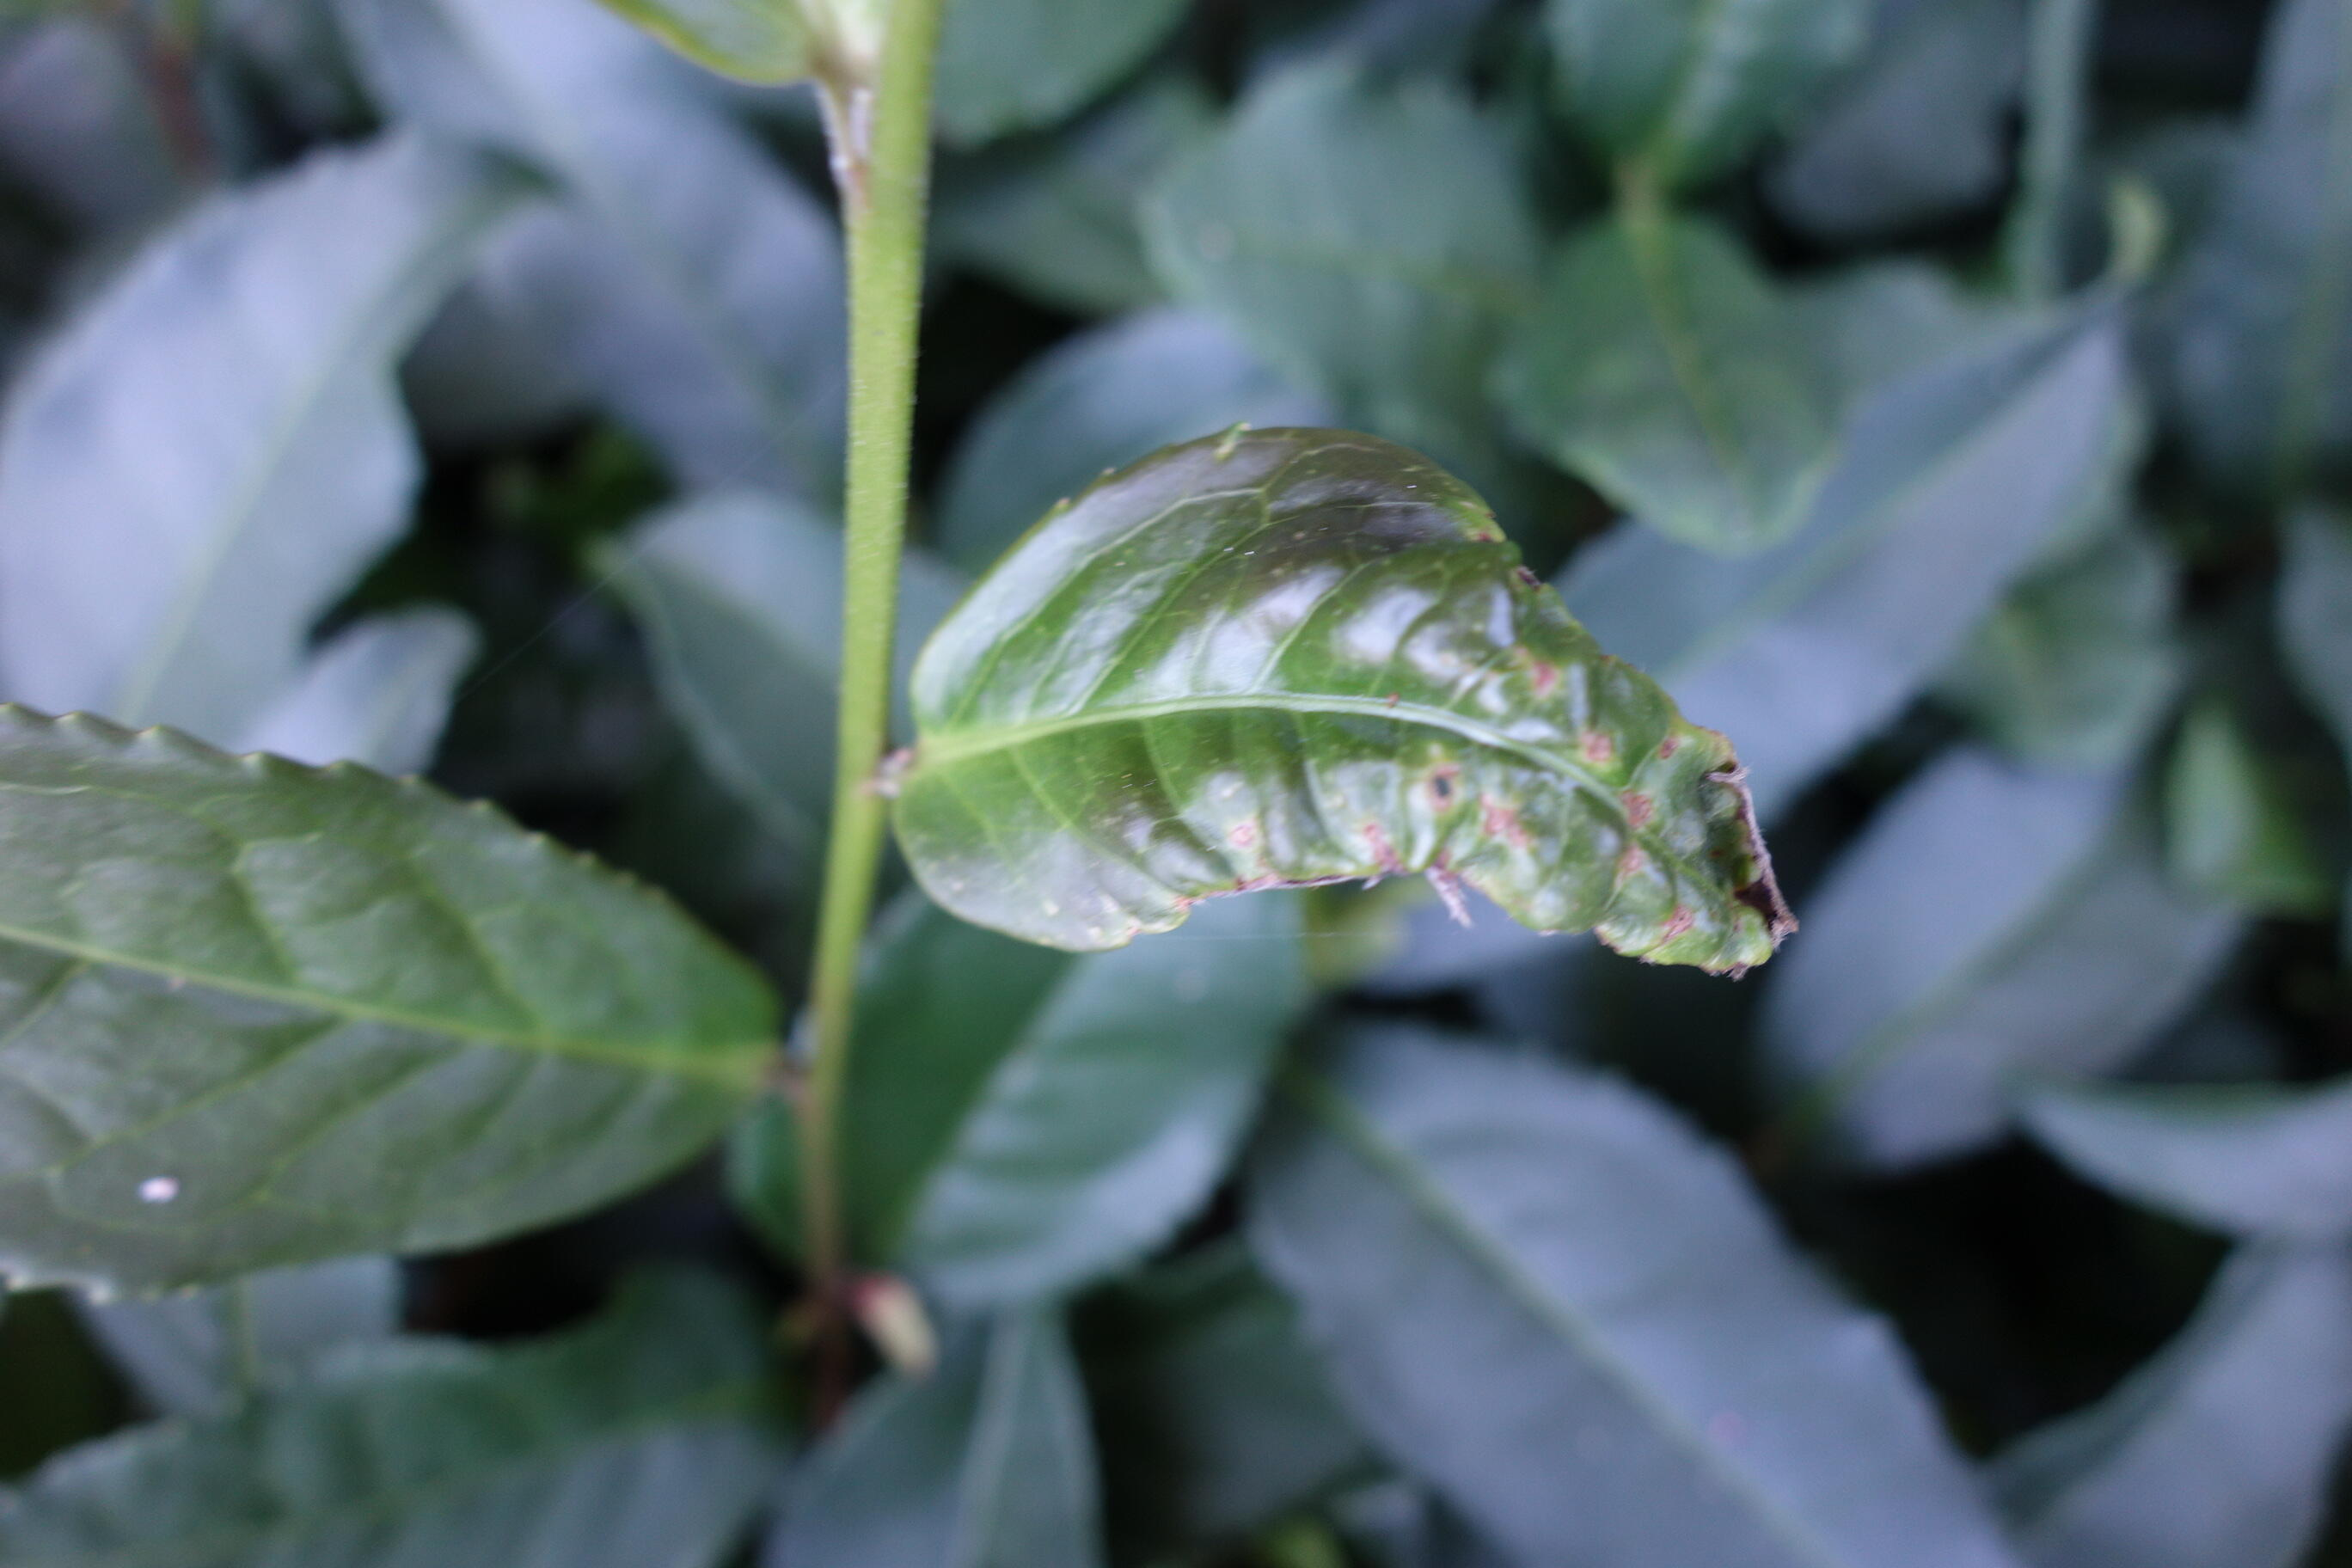chihuo_high: (878, 422, 1799, 985)
